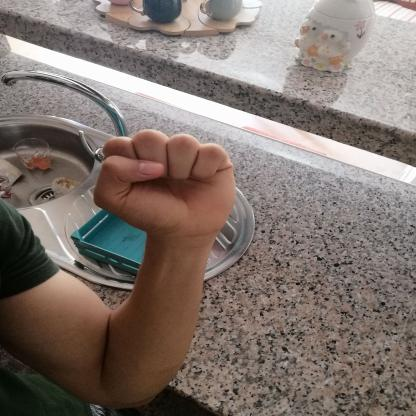SAD: (78, 119, 249, 249)
